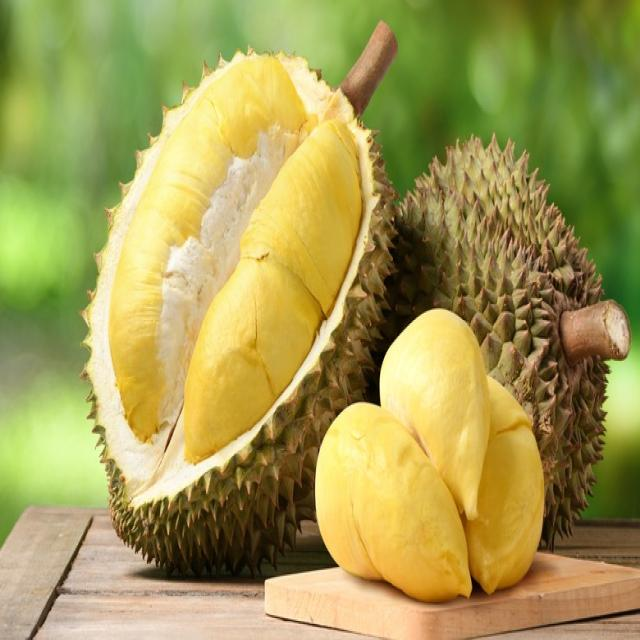fruit: (2, 1, 640, 640)
